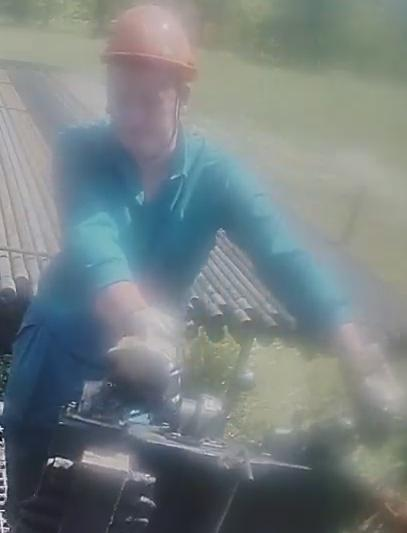gloves: (337, 332, 407, 446), (92, 308, 185, 391)
helmet: (98, 1, 198, 75)
vest: (48, 118, 221, 372)
